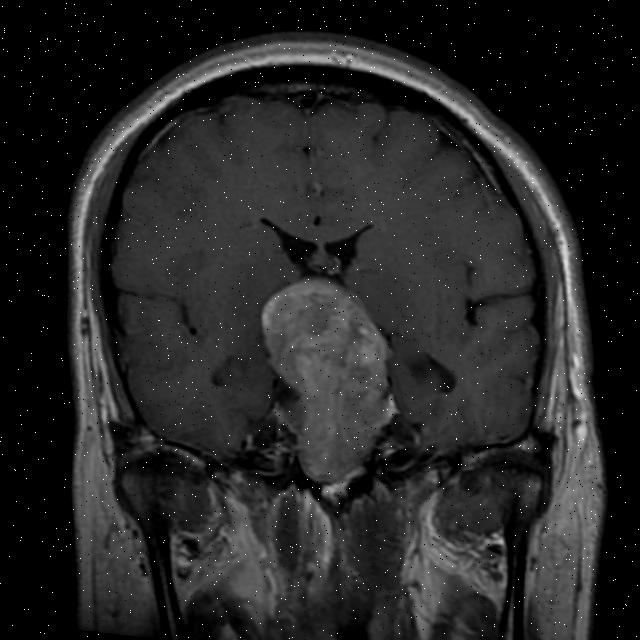Pituitary: (250, 269, 407, 491)
